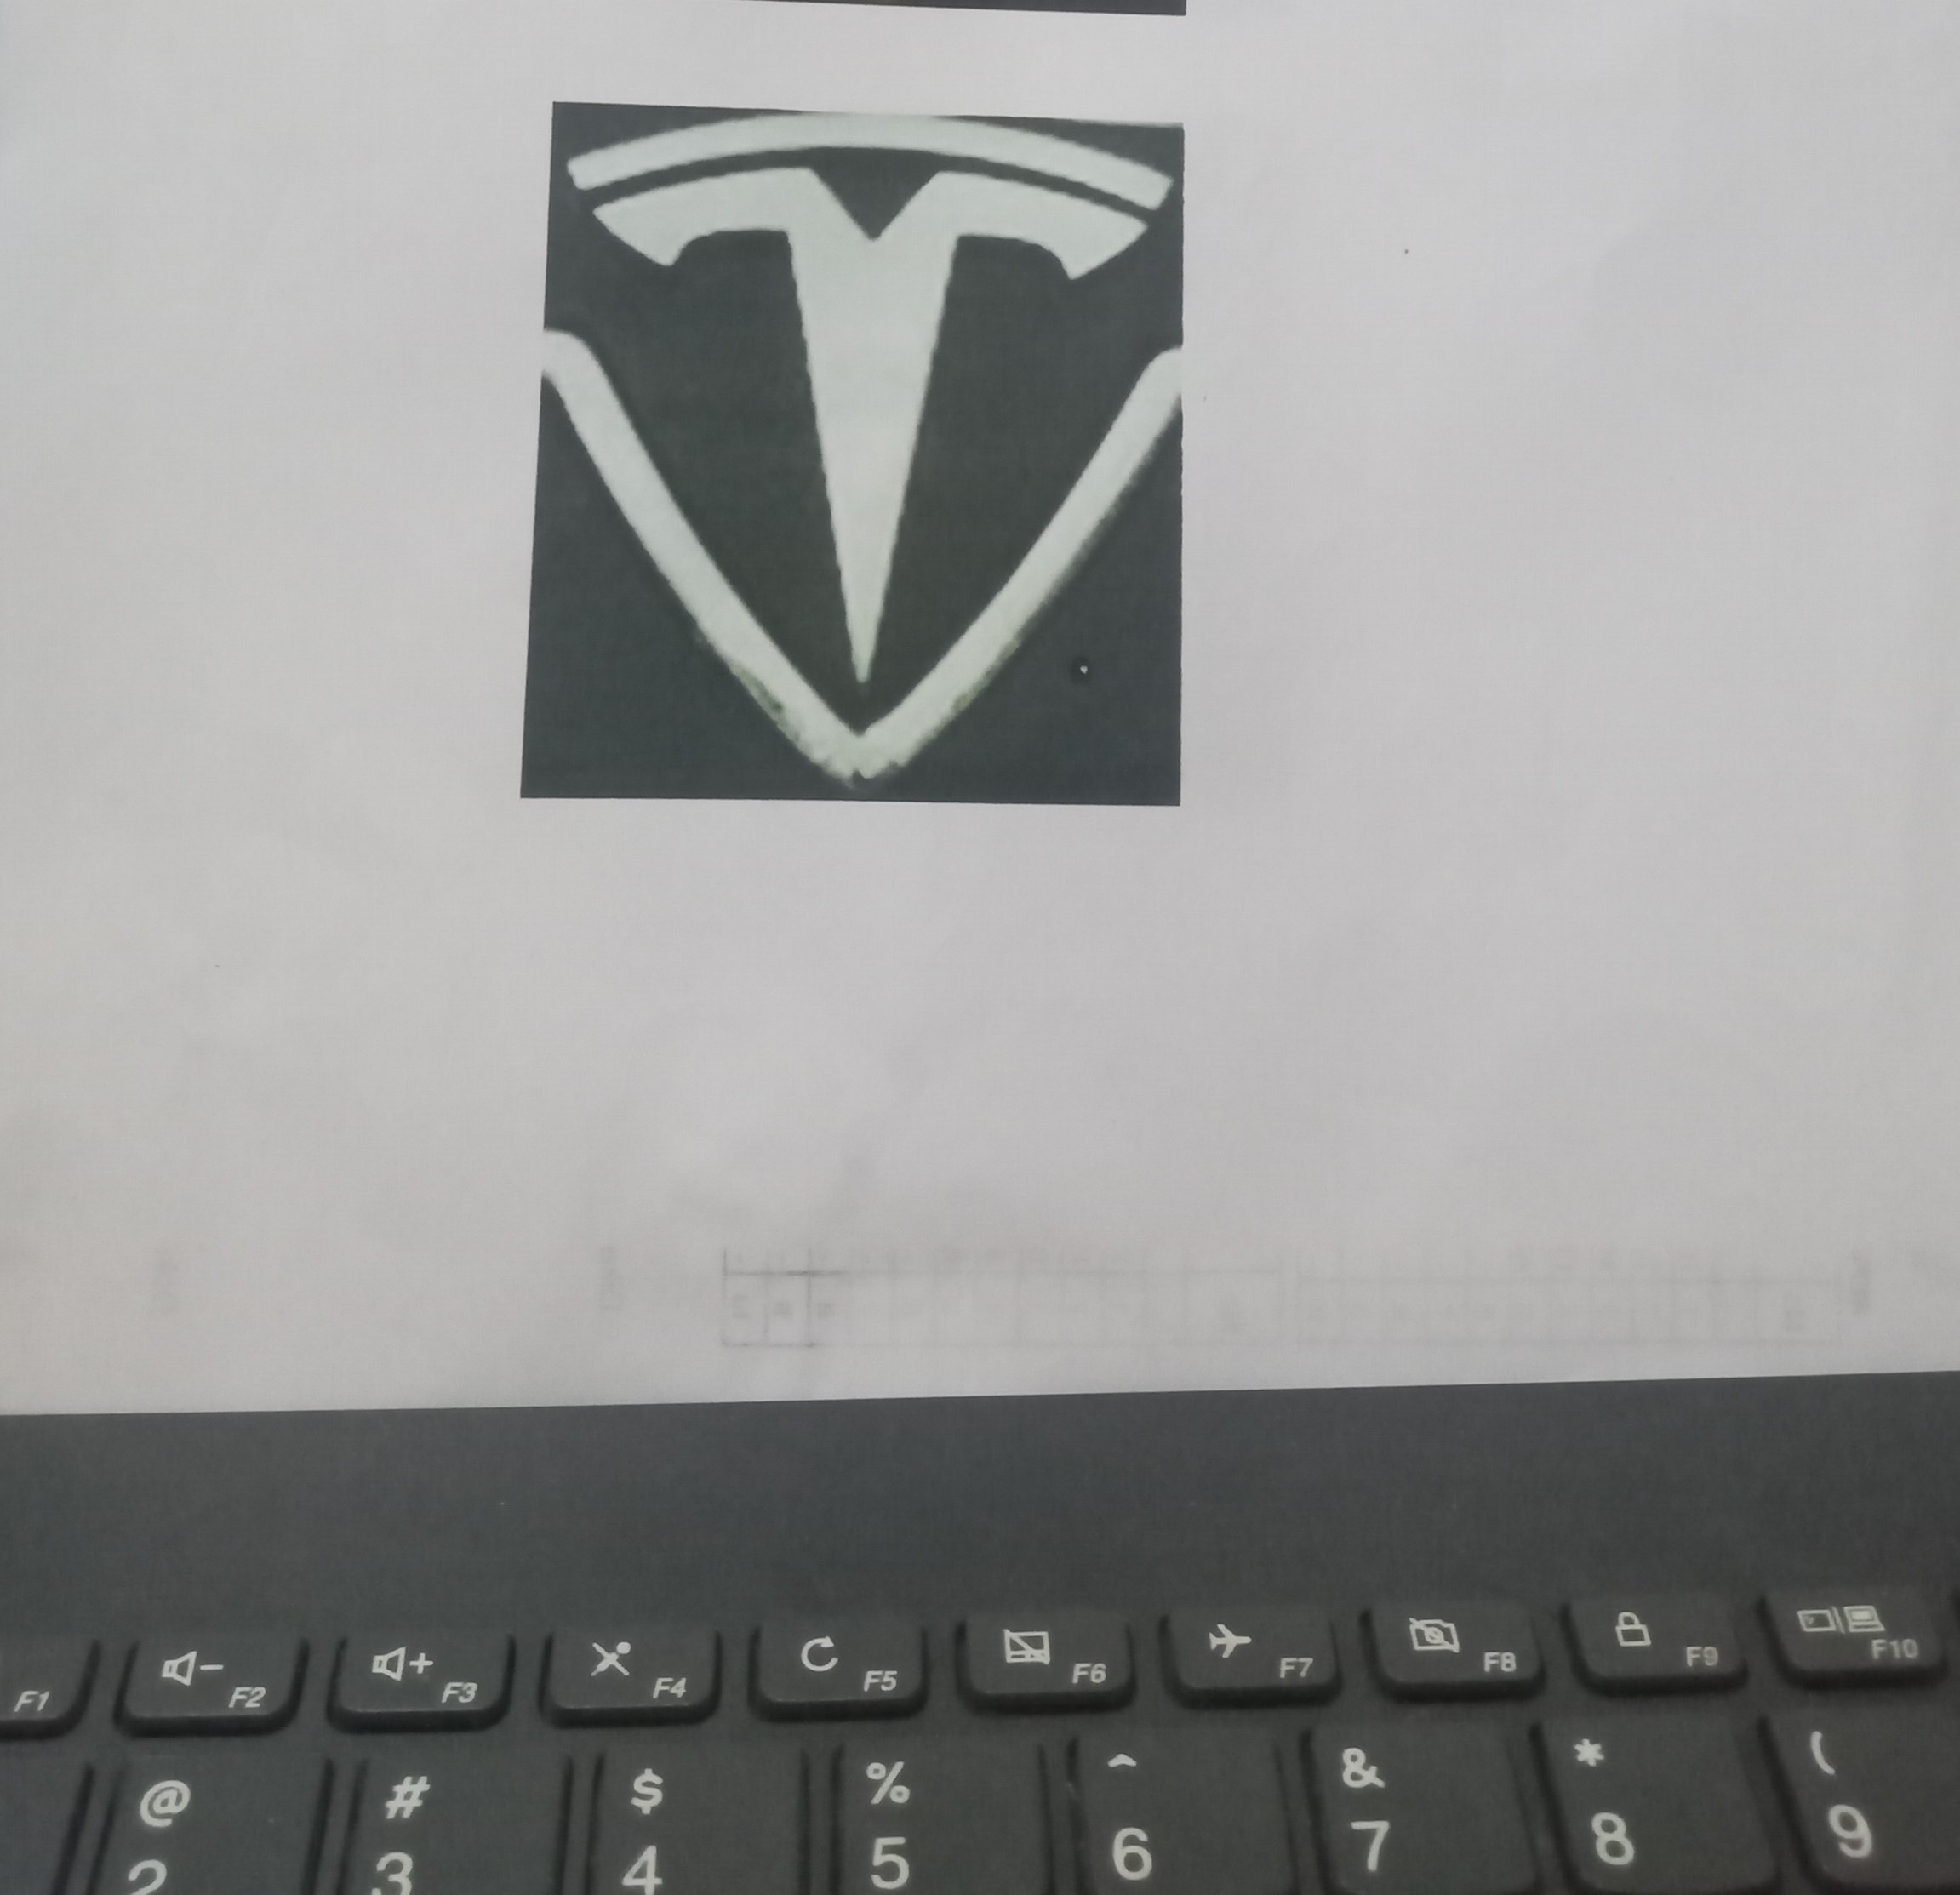Tesla: (542, 98, 1183, 815)
